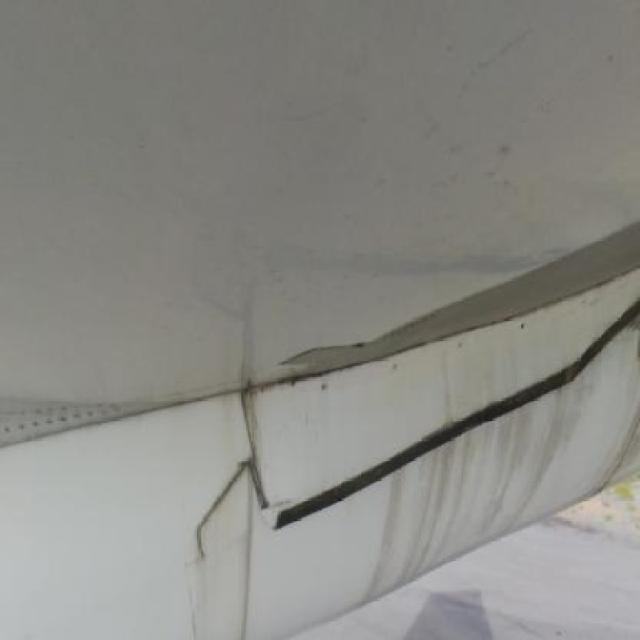Missing-Rivet: (0, 389, 131, 463)
Rust: (360, 346, 640, 600), (168, 355, 282, 640)
